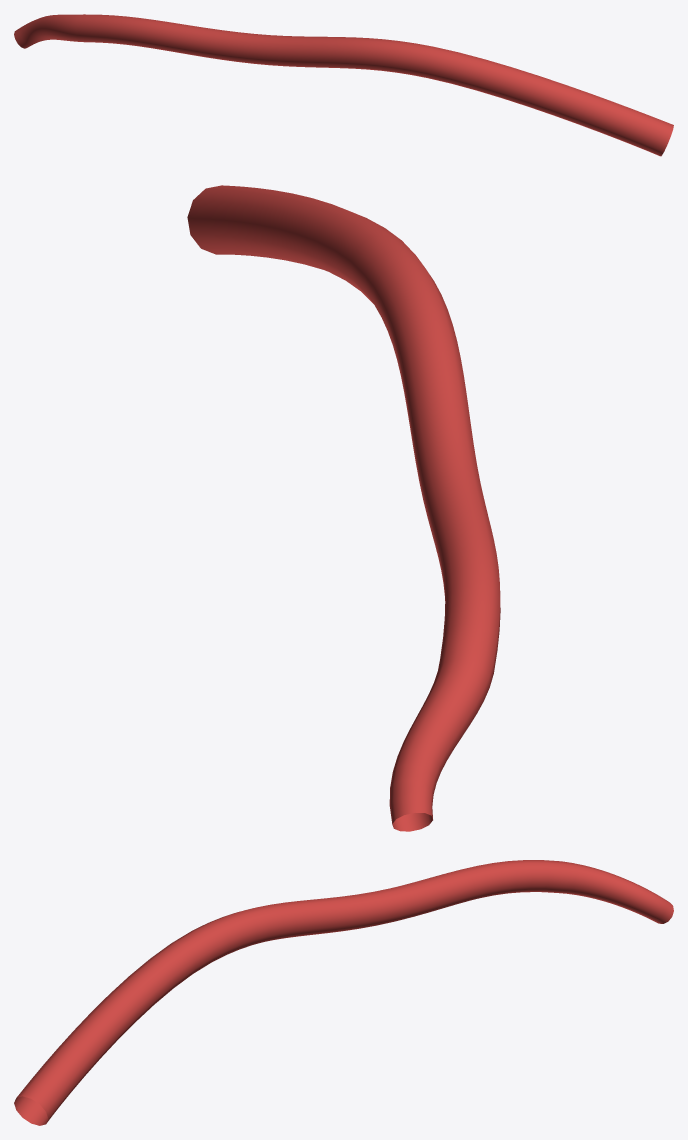
3 views of the same model, one above another, from view 1: azimuth 30°, elevation 25°; view 2: azimuth 150°, elevation 25°; view 3: azimuth 270°, elevation 25° (orthographic). The views are drawn at different scales.
Visible parts, largest first — view 1: 右侧跗外侧动脉; view 2: 右侧跗外侧动脉; view 3: 右侧跗外侧动脉.
Part boxes in pixels (box(x1,y1,x2,y2)): 右侧跗外侧动脉: box(14, 14, 673, 156); 右侧跗外侧动脉: box(187, 185, 500, 831); 右侧跗外侧动脉: box(14, 860, 673, 1125).
Bounding box in the file's own units: 0.0569 × 0.0134 × 0.0727.
